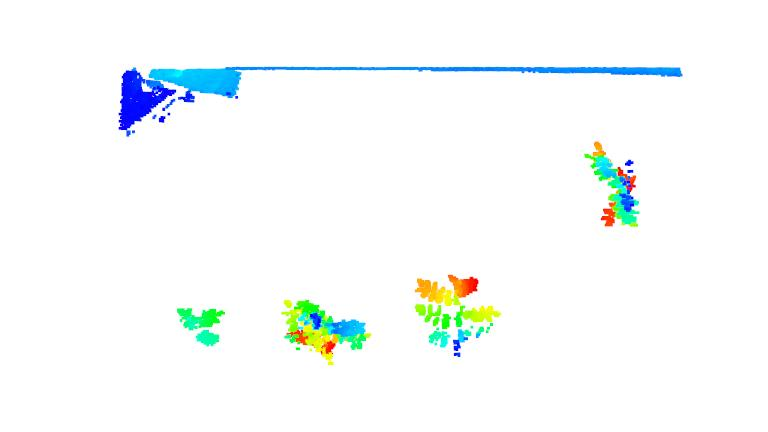chickpea: (414, 273, 502, 357), (280, 299, 371, 364), (581, 140, 641, 230), (174, 306, 226, 348)
